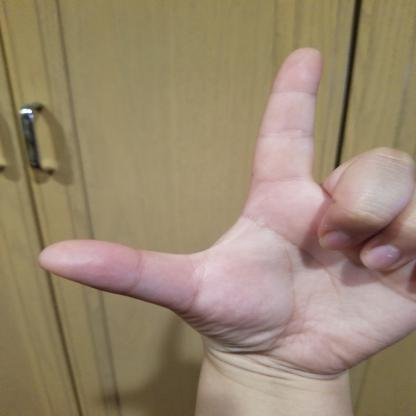L: (29, 42, 416, 386)
